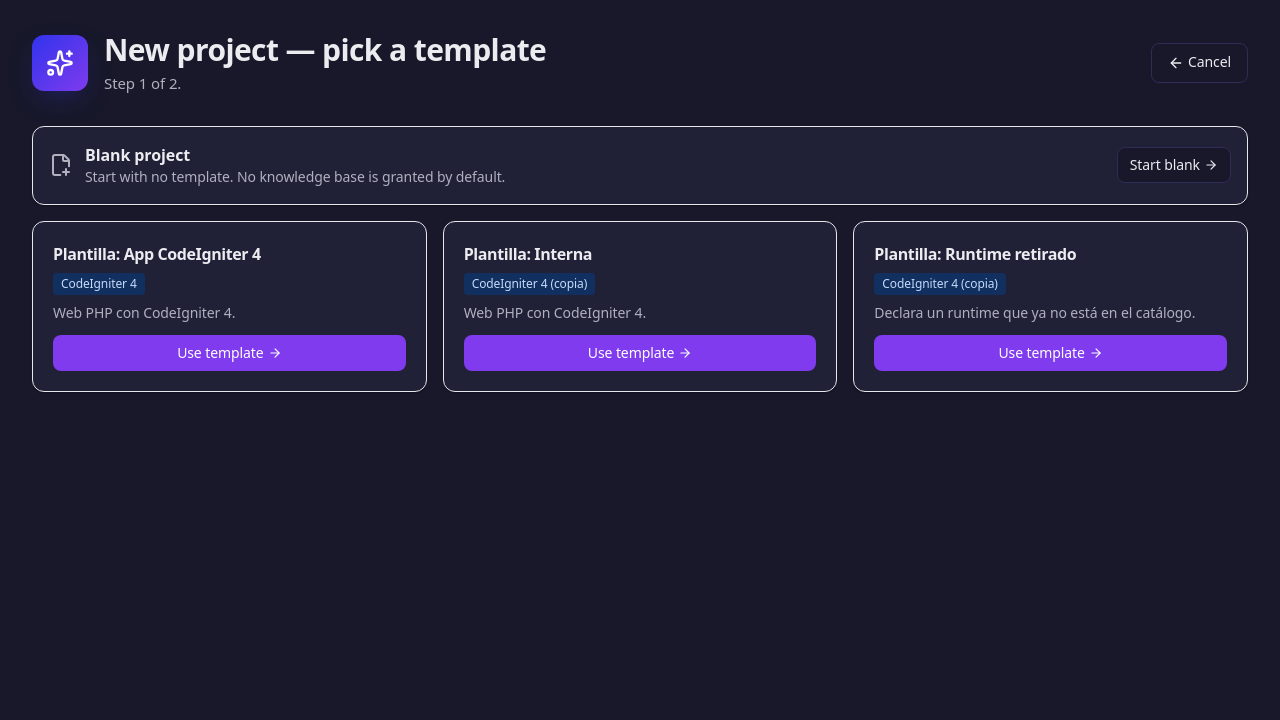
it: El runtime de la plantilla que no está en el catálogo › el aviso se traduce
The width and height of the screenshot is (1280, 720).
Click the button "Use template" below "Plantilla: Runtime retirado" at (1051, 353), box [874, 335, 1227, 371]
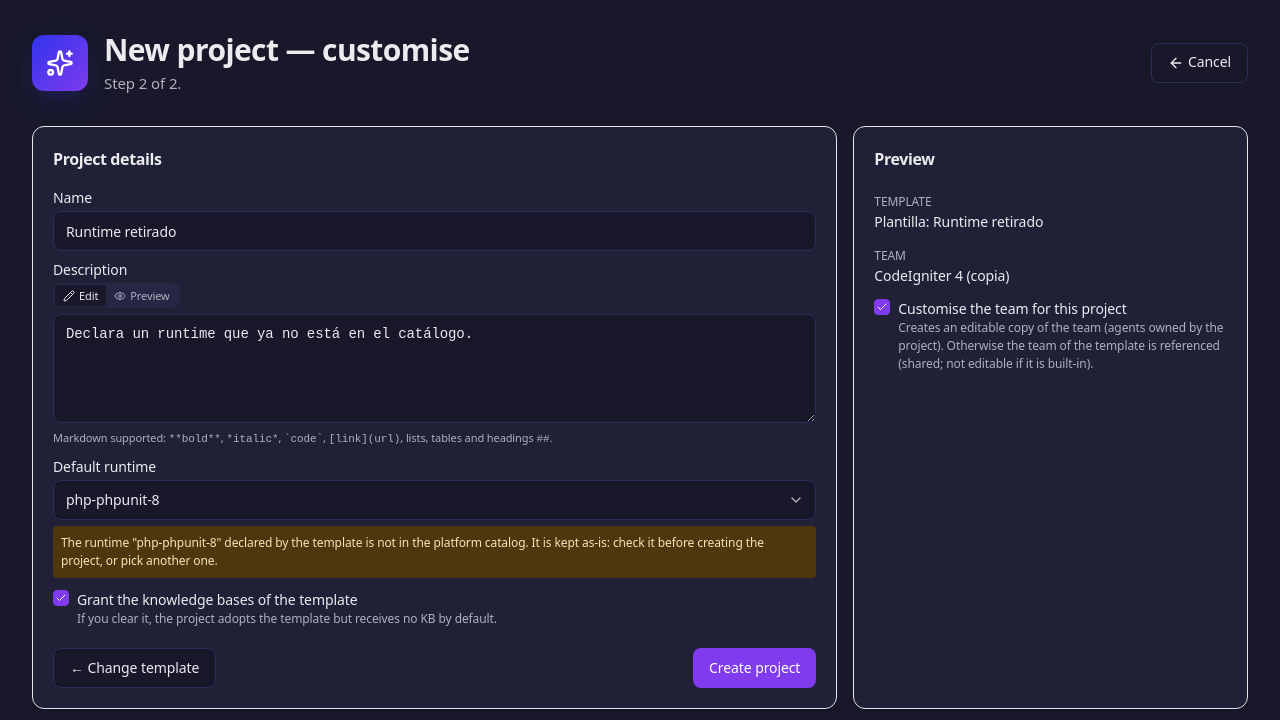
Check: the element with test id "wizard-step-2" is shown
Check: the text with test id "wizard-runtime-unknown" shows "catalog", box [61, 534, 764, 569]
Check: the text with test id "wizard-runtime-unknown" no longer shows "catálogo"
